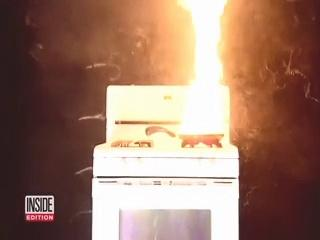Fire: (178, 84, 224, 160)
